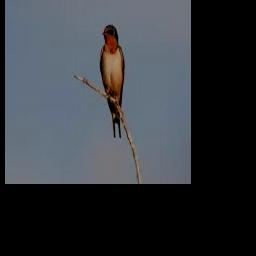Swallow: (100, 25, 124, 137)
